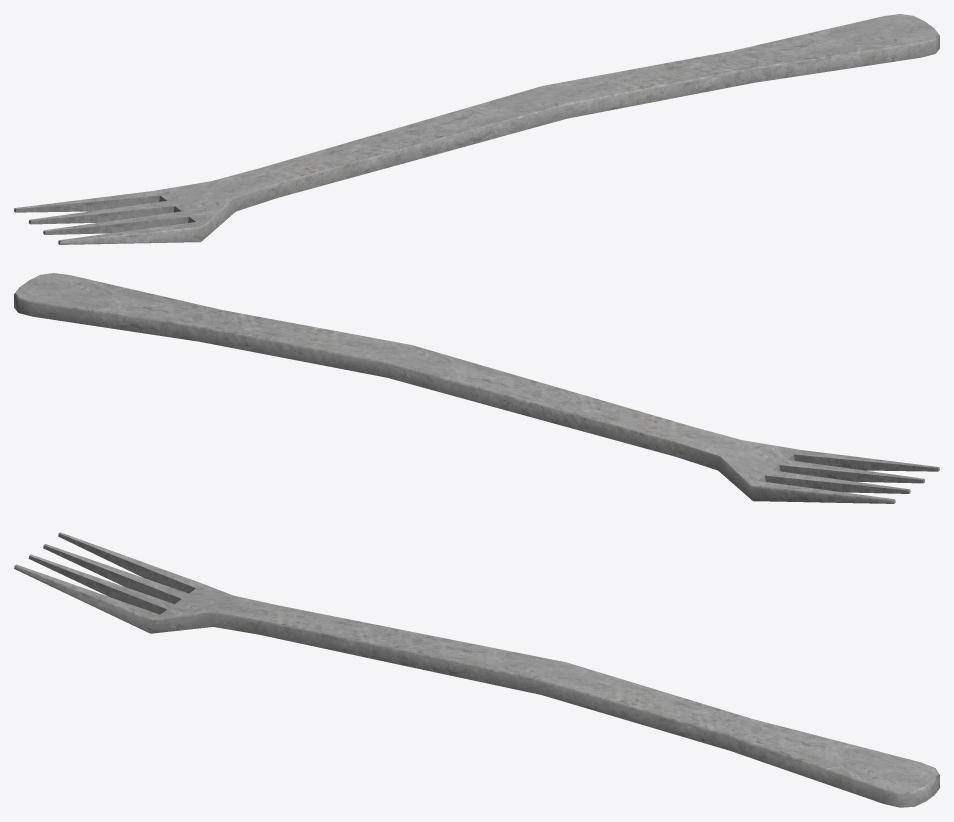
The model's file is Fork.FBX.
3 renders of one model, top to bottom at view 1: azimuth 30°, elevation 25°; view 2: azimuth 150°, elevation 25°; view 3: azimuth 330°, elevation 25°, orthographic.
Parts seen in each view (by area): view 1: Box057; view 2: Box057; view 3: Box057.
Boxes of the visible parts, bbox=[...] form: Box057: bbox=[14, 14, 939, 244]; Box057: bbox=[14, 273, 939, 503]; Box057: bbox=[14, 532, 939, 807].
Bounding box in the file's own units: 126 × 4.94 × 12.36.
